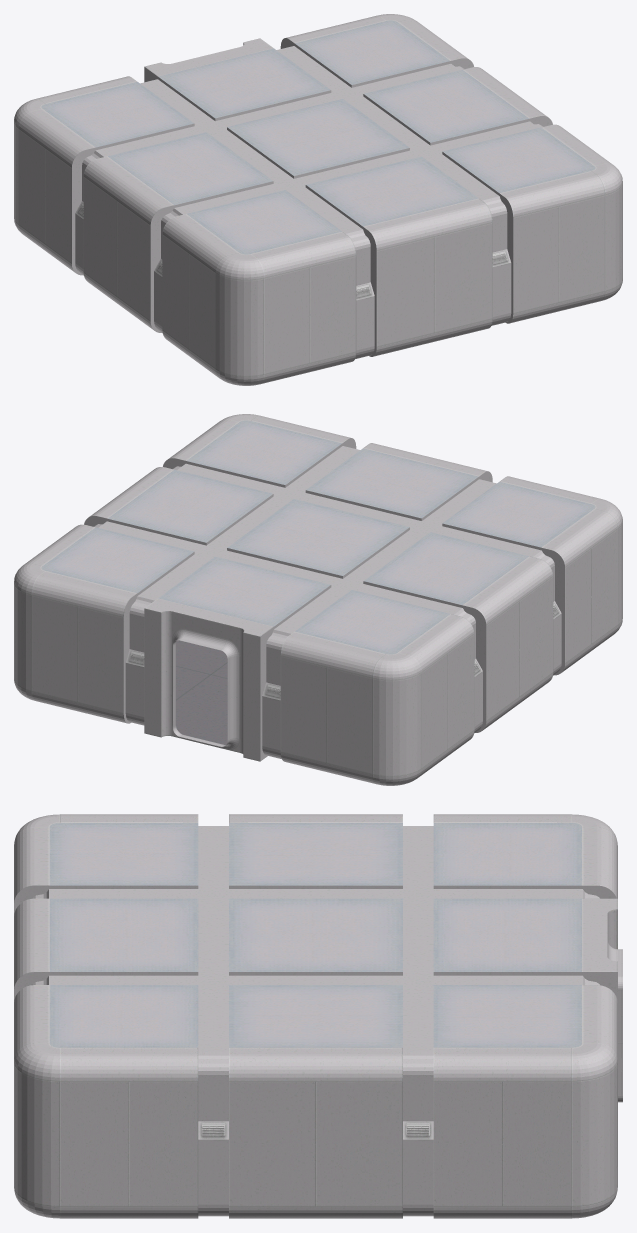
Rendered from thm_spc_corvette_dungeon_r63_officerquarters63_mesh_r63.fbx.
3 views of the same model, one above another, from view 1: azimuth 30°, elevation 25°; view 2: azimuth 150°, elevation 25°; view 3: azimuth 270°, elevation 25° (orthographic). The views are drawn at different scales.
Parts seen in each view (by area): view 1: mesh_node; view 2: mesh_node; view 3: mesh_node.
Part boxes in pixels (bbox=[...]): mesh_node: bbox=[14, 14, 622, 385]; mesh_node: bbox=[14, 414, 622, 785]; mesh_node: bbox=[14, 814, 622, 1218].
Bounding box in the file's own units: 11.8 × 3.5 × 11.9.
